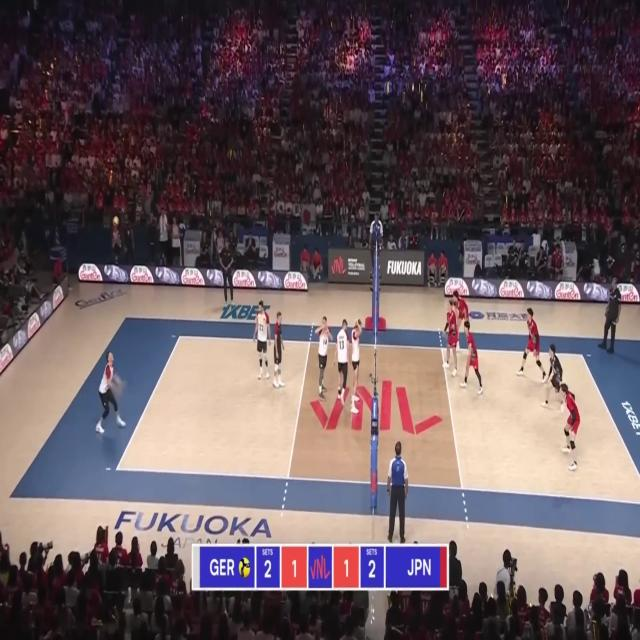referee: (387, 441, 412, 545)
team_one: (95, 349, 128, 436), (315, 316, 333, 400), (254, 299, 272, 381), (350, 319, 365, 415), (334, 319, 350, 406), (272, 312, 285, 391)
team_two: (516, 306, 547, 381), (559, 382, 582, 472), (460, 321, 484, 394), (542, 343, 566, 410), (442, 303, 459, 376), (452, 290, 471, 341)
